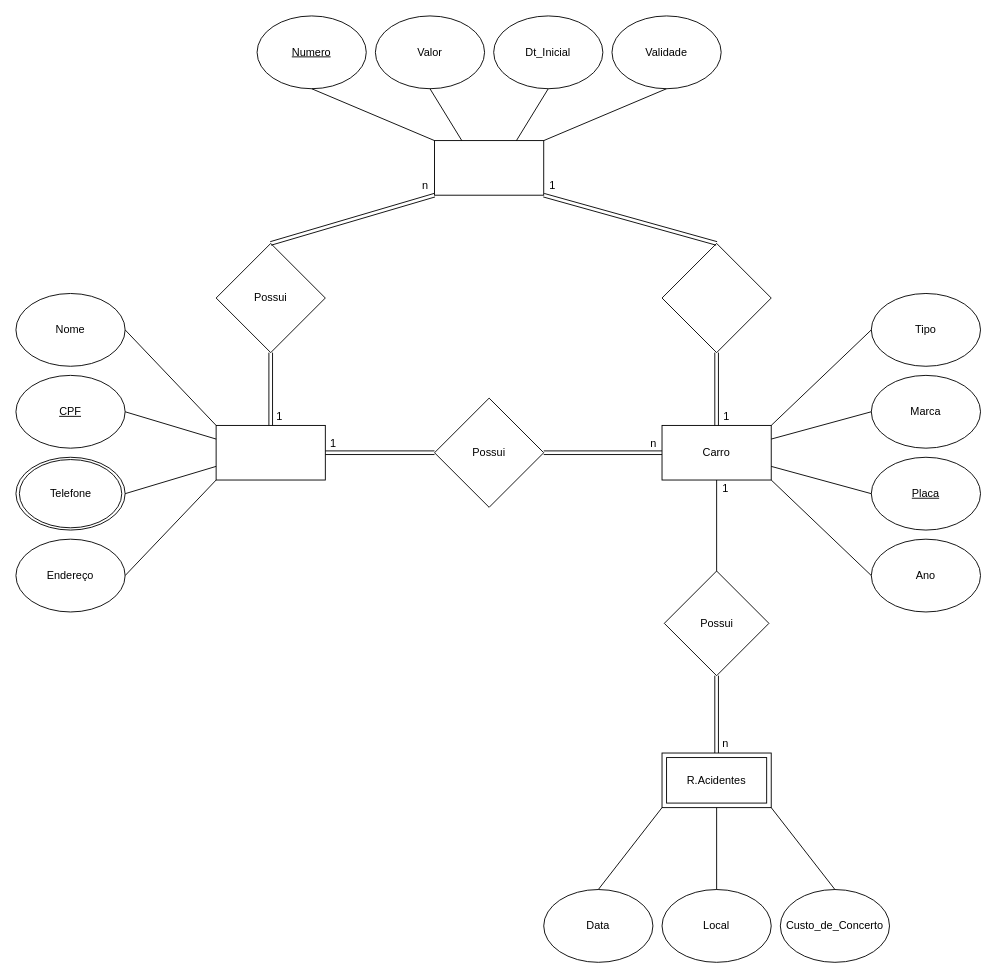
Some shapes in this 996 by 978 pixel diagram are drawn without their labels. The shapes that lost their labels are listed below. From the top down, each one's centre as x and y in pixels, then its label:
At (x=489, y=167): "Apólice".
At (x=716, y=298): "Vinculado".
At (x=270, y=452): "Cliente".
